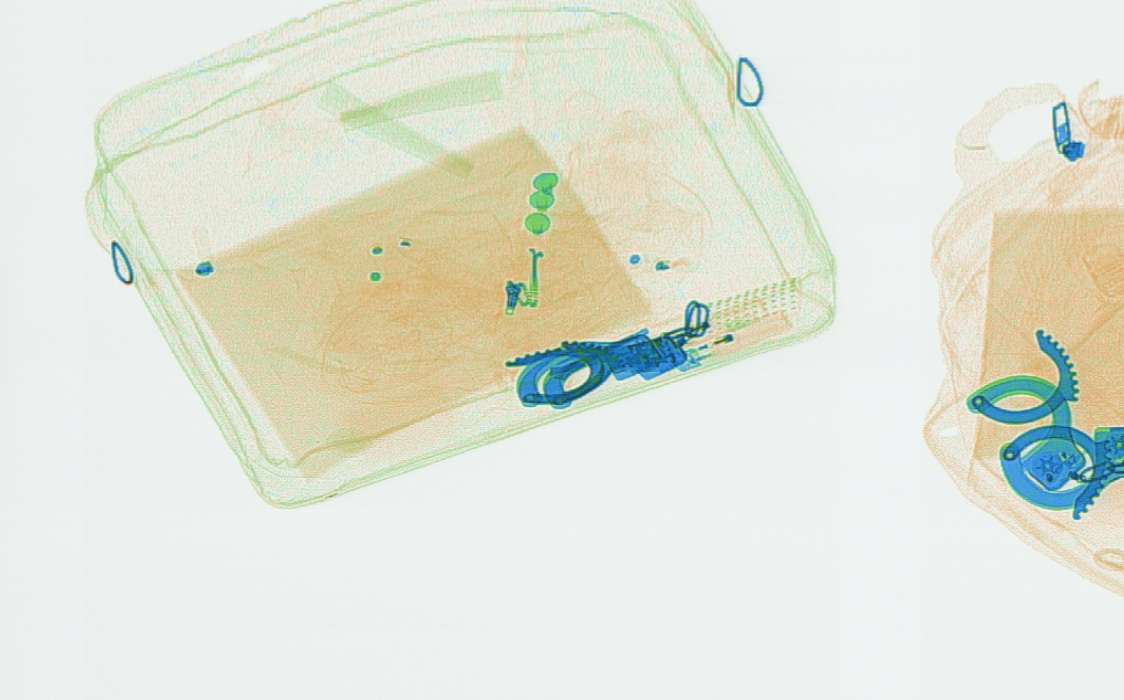handcuffs: (965, 327, 1121, 521), (505, 326, 691, 413)
lighter: (648, 290, 770, 358), (668, 309, 792, 373)
